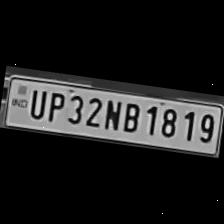1: (176, 106, 198, 143), (138, 102, 160, 138)
2: (82, 94, 104, 130)
3: (62, 91, 84, 126)
8: (154, 104, 180, 140)
9: (194, 110, 218, 144)
B: (117, 98, 142, 134)
N: (99, 96, 122, 132)
P: (42, 88, 66, 124)
U: (24, 85, 46, 119)
